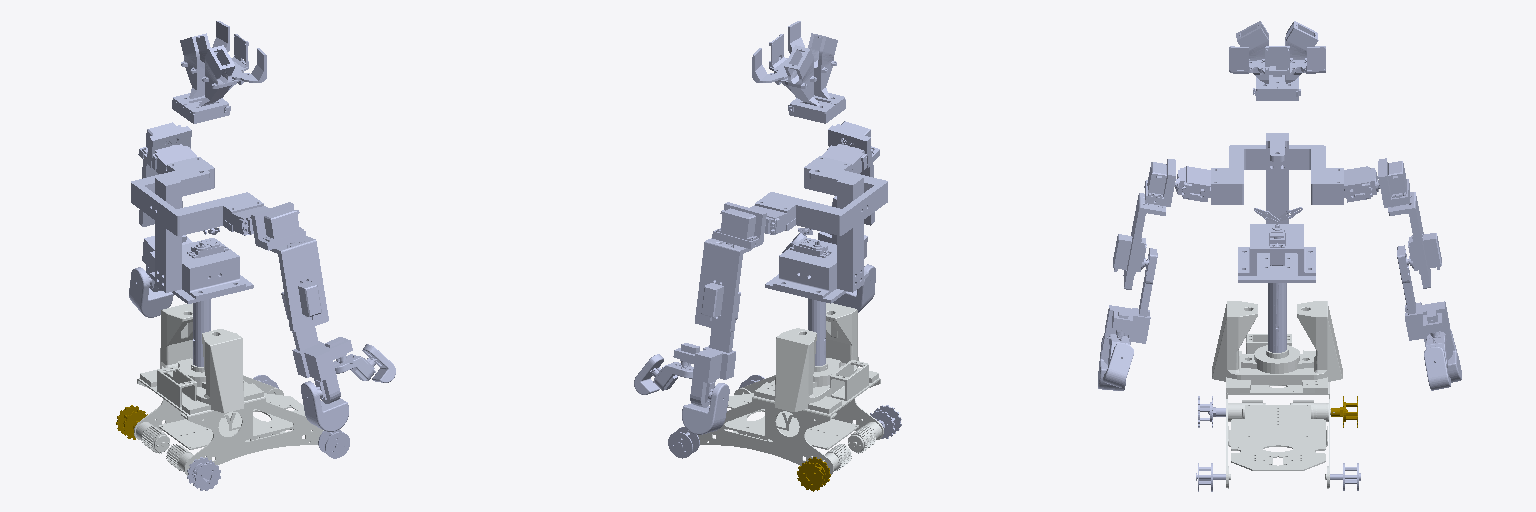
--- What the picture shows (computed from the rendered views, not written in the file) ---
Views: 3 orthographic renders of the robot side by side, from view 1: azimuth 30°, elevation 25°; view 2: azimuth 150°, elevation 25°; view 3: azimuth 270°, elevation 25°.
Model bearmaxV2 with 23 links and 22 joints (15 revolute, 2 continuous, 5 fixed), rooted at base_link, posed every joint at zero.
Visible links, largest first — view 1: base_link, neck_platform_link, head_platform_link, right_rotator_link, right_elbow_link, right_shoulder_link, right_paw_link, chassis_link, left_paw_link, left_shoulder_link, right_wheel_drive_link, right_wheel_caster_link (+4 smaller); view 2: base_link, neck_platform_link, head_platform_link, left_rotator_link, left_elbow_link, left_shoulder_link, left_paw_link, chassis_link, right_shoulder_link, left_wheel_drive_link, right_paw_link, left_wheel_caster_link (+3 smaller); view 3: base_link, neck_platform_link, head_platform_link, chassis_link, left_elbow_link, right_elbow_link, right_rotator_link, left_rotator_link, left_shoulder_link, right_shoulder_link, right_thumb_link, left_thumb_link.
Boxes of the visible links, left/top/right/bottom form: base_link: left=134, top=303, right=323, bottom=475; neck_platform_link: left=131, top=144, right=269, bottom=298; head_platform_link: left=172, top=21, right=266, bottom=123; right_rotator_link: left=270, top=236, right=328, bottom=331; right_elbow_link: left=281, top=292, right=352, bottom=403; right_shoulder_link: left=251, top=202, right=306, bottom=250; right_paw_link: left=301, top=381, right=348, bottom=431; chassis_link: left=150, top=272, right=253, bottom=366; left_paw_link: left=129, top=267, right=173, bottom=317; left_shoulder_link: left=138, top=122, right=191, bottom=167; right_wheel_drive_link: left=187, top=457, right=220, bottom=490; right_wheel_caster_link: left=318, top=429, right=349, bottom=458; base_link: left=698, top=303, right=883, bottom=474; neck_platform_link: left=750, top=144, right=887, bottom=297; head_platform_link: left=752, top=21, right=845, bottom=123; left_rotator_link: left=695, top=238, right=751, bottom=332; left_elbow_link: left=673, top=292, right=740, bottom=407; left_shoulder_link: left=712, top=202, right=766, bottom=248; left_paw_link: left=682, top=383, right=729, bottom=434; chassis_link: left=765, top=271, right=868, bottom=365; right_shoulder_link: left=828, top=121, right=879, bottom=167; left_wheel_drive_link: left=797, top=457, right=830, bottom=491; right_paw_link: left=833, top=264, right=875, bottom=312; left_wheel_caster_link: left=668, top=427, right=699, bottom=458; base_link: left=1212, top=301, right=1342, bottom=488; neck_platform_link: left=1175, top=133, right=1379, bottom=275; head_platform_link: left=1229, top=21, right=1325, bottom=100; chassis_link: left=1238, top=247, right=1315, bottom=352; left_elbow_link: left=1397, top=245, right=1452, bottom=359; right_elbow_link: left=1102, top=248, right=1157, bottom=364; right_rotator_link: left=1113, top=193, right=1165, bottom=289; left_rotator_link: left=1388, top=192, right=1441, bottom=288; left_shoulder_link: left=1378, top=158, right=1409, bottom=207; right_shoulder_link: left=1144, top=159, right=1175, bottom=206; right_thumb_link: left=1103, top=343, right=1133, bottom=387; left_thumb_link: left=1424, top=346, right=1450, bottom=390.
Size in the robot's own frame: 0.2459 by 0.4761 by 0.6075 metres.
Meshes: 23 distinct files referenced, 22 mesh visuals loaded (22 binary STL); not drawn: 1 (reference not matched to a file when rendering).

The robot description file, URDF, robot "bearmaxV2":
<?xml version="1.0" encoding="utf-8"?>
<!-- This URDF was automatically created by SolidWorks to URDF Exporter! Originally created by Stephen Brawner ([email redacted]) 
     Commit Version: 1.6.0-4-g7f85cfe  Build Version: 1.6.7995.38578
     For more information, please see http://wiki.ros.org/sw_urdf_exporter -->
<robot
  name="bearmaxV2">
  <link
    name="base_link">
    <inertial>
      <origin
        xyz="0.00586162456071543 -0.000185831833419414 0.0744001117554646"
        rpy="0 0 0" />
      <mass
        value="0.976780836916066" />
      <inertia
        ixx="0.00249083647921665"
        ixy="-4.40340033287534E-06"
        ixz="0.000118001479445594"
        iyy="0.00161625182152479"
        iyz="-2.5684104100142E-07"
        izz="0.00301636800775809" />
    </inertial>
    <visual>
      <origin
        xyz="0 0 0"
        rpy="0 0 0" />
      <geometry>
        <mesh
          filename="package://bearmax_description/meshes/base_link.STL" />
      </geometry>
      <material
        name="">
        <color
          rgba="0.898039215686275 0.917647058823529 0.929411764705882 1" />
      </material>
    </visual>
    <collision>
      <origin
        xyz="0 0 0"
        rpy="0 0 0" />
      <geometry>
        <mesh
          filename="package://bearmax_description/meshes/base_link.STL" />
      </geometry>
    </collision>
  </link>
  <link
    name="right_wheel_drive_link">
    <inertial>
      <origin
        xyz="-1.38693360296482E-07 -0.000198099491081072 0.0139468851825513"
        rpy="0 0 0" />
      <mass
        value="0.0207208973209134" />
      <inertia
        ixx="1.50319217791014E-06"
        ixy="-6.09220367635927E-10"
        ixz="1.01736492064527E-13"
        iyy="1.50791308225809E-06"
        iyz="-6.47462235441163E-13"
        izz="1.39681173741092E-06" />
    </inertial>
    <visual>
      <origin
        xyz="0 0 0"
        rpy="0 0 0" />
      <geometry>
        <mesh
          filename="package://bearmax_description/meshes/right_wheel_drive_link.STL" />
      </geometry>
      <material
        name="">
        <color
          rgba="0.792156862745098 0.819607843137255 0.933333333333333 1" />
      </material>
    </visual>
    <collision>
      <origin
        xyz="0 0 0"
        rpy="0 0 0" />
      <geometry>
        <mesh
          filename="package://bearmax_description/meshes/right_wheel_drive_link.STL" />
      </geometry>
    </collision>
  </link>
  <joint
    name="right_wheel_drive_joint"
    type="continuous">
    <origin
      xyz="-0.049487 -0.067539 -0.012187"
      rpy="1.5708 0 0" />
    <parent
      link="base_link" />
    <child
      link="right_wheel_drive_link" />
    <axis
      xyz="0 0 1" />
  </joint>
  <link
    name="right_wheel_caster_link">
    <inertial>
      <origin
        xyz="0 -1.11022302462516E-16 0.0274126270725132"
        rpy="0 0 0" />
      <mass
        value="0.00599559282611409" />
      <inertia
        ixx="9.01961510756187E-07"
        ixy="-1.95473660178741E-22"
        ixz="4.18266535670013E-22"
        iyy="9.01961510756187E-07"
        iyz="-3.03899159638205E-22"
        izz="8.58020065536495E-07" />
    </inertial>
    <visual>
      <origin
        xyz="0 0 0"
        rpy="0 0 0" />
      <geometry>
        <mesh
          filename="package://bearmax_description/meshes/right_wheel_caster_link.STL" />
      </geometry>
      <material
        name="">
        <color
          rgba="0.792156862745098 0.819607843137255 0.933333333333333 1" />
      </material>
    </visual>
    <collision>
      <origin
        xyz="0 0 0"
        rpy="0 0 0" />
      <geometry>
        <mesh
          filename="package://bearmax_description/meshes/right_wheel_caster_link.STL" />
      </geometry>
    </collision>
  </link>
  <joint
    name="right_wheel_caster_joint"
    type="fixed">
    <origin
      xyz="0.15096 -0.065039 -0.012467"
      rpy="1.5708 0 0" />
    <parent
      link="base_link" />
    <child
      link="right_wheel_caster_link" />
    <axis
      xyz="0 0 0" />
  </joint>
  <link
    name="left_wheel_drive_link">
    <inertial>
      <origin
        xyz="-4.04399003173239E-09 1.52340051684519E-09 -0.0220131148174488"
        rpy="0 0 0" />
      <mass
        value="0.0207208973209135" />
      <inertia
        ixx="1.50753295180584E-06"
        ixy="-1.42169258294887E-09"
        ixz="6.29562738041217E-13"
        iyy="1.50357230836238E-06"
        iyz="-1.82231785344126E-13"
        izz="1.39681173741092E-06" />
    </inertial>
    <visual>
      <origin
        xyz="0 0 0"
        rpy="0 0 0" />
      <geometry>
        <mesh
          filename="package://bearmax_description/meshes/left_wheel_drive_link.STL" />
      </geometry>
      <material
        name="">
        <color
          rgba="0.647058823529412 0.517647058823529 0 1" />
      </material>
    </visual>
    <collision>
      <origin
        xyz="0 0 0"
        rpy="0 0 0" />
      <geometry>
        <mesh
          filename="package://bearmax_description/meshes/left_wheel_drive_link.STL" />
      </geometry>
    </collision>
  </link>
  <joint
    name="left_wheel_drive_joint"
    type="continuous">
    <origin
      xyz="-0.049487 0.10541 -0.012467"
      rpy="-1.5708 0 0" />
    <parent
      link="base_link" />
    <child
      link="left_wheel_drive_link" />
    <axis
      xyz="0 0 1" />
  </joint>
  <link
    name="left_wheel_caster_link">
    <inertial>
      <origin
        xyz="-1.11022302462516E-16 1.11022302462516E-16 -0.0141573729274869"
        rpy="0 0 0" />
      <mass
        value="0.00599559282611411" />
      <inertia
        ixx="9.01961510756188E-07"
        ixy="1.32348898008484E-22"
        ixz="-1.4640564787551E-22"
        iyy="9.01961510756188E-07"
        iyz="-3.39826442528283E-22"
        izz="8.58020065536496E-07" />
    </inertial>
    <visual>
      <origin
        xyz="0 0 0"
        rpy="0 0 0" />
      <geometry>
        <mesh
          filename="package://bearmax_description/meshes/left_wheel_caster_link.STL" />
      </geometry>
      <material
        name="">
        <color
          rgba="0.792156862745098 0.819607843137255 0.933333333333333 1" />
      </material>
    </visual>
    <collision>
      <origin
        xyz="0 0 0"
        rpy="0 0 0" />
      <geometry>
        <mesh
          filename="package://bearmax_description/meshes/left_wheel_caster_link.STL" />
      </geometry>
    </collision>
  </link>
  <joint
    name="left_wheel_caster_joint"
    type="fixed">
    <origin
      xyz="0.15096 0.10852 -0.012467"
      rpy="-1.5708 -0.084596 0" />
    <parent
      link="base_link" />
    <child
      link="left_wheel_caster_link" />
    <axis
      xyz="0 0 0" />
  </joint>
  <link
    name="chassis_link">
    <inertial>
      <origin
        xyz="2.4421391020546E-09 3.56975005111337E-11 0.131399238783049"
        rpy="0 0 0" />
      <mass
        value="0.0816032882836278" />
      <inertia
        ixx="9.07997410153172E-05"
        ixy="-2.24870884032049E-10"
        ixz="-9.88775925003615E-12"
        iyy="9.14425226213427E-05"
        iyz="-1.69086472447409E-13"
        izz="9.16677155582235E-05" />
    </inertial>
    <visual>
      <origin
        xyz="0 0 0"
        rpy="0 0 0" />
      <geometry>
        <mesh
          filename="package://bearmax_description/meshes/chassis_link.STL" />
      </geometry>
      <material
        name="">
        <color
          rgba="0.792156862745098 0.819607843137255 0.933333333333333 1" />
      </material>
    </visual>
    <collision>
      <origin
        xyz="0 0 0"
        rpy="0 0 0" />
      <geometry>
        <mesh
          filename="package://bearmax_description/meshes/chassis_link.STL" />
      </geometry>
    </collision>
  </link>
  <joint
    name="chassis_joint"
    type="fixed">
    <origin
      xyz="0.0010131 -0.00011241 0.06899"
      rpy="0 0 0" />
    <parent
      link="base_link" />
    <child
      link="chassis_link" />
    <axis
      xyz="0 0 0" />
    <limit
      lower="0"
      upper="0"
      effort="0"
      velocity="0" />
  </joint>
  <link
    name="neck_platform_link">
    <inertial>
      <origin
        xyz="0.0639785291769795 0.0387672618963074 0.125754531516558"
        rpy="0 0 0" />
      <mass
        value="2.25967949465978" />
      <inertia
        ixx="0.00336303191779539"
        ixy="1.4622037536743E-07"
        ixz="-1.8593147975162E-05"
        iyy="0.00360507316848212"
        iyz="-1.76710531971803E-09"
        izz="0.00578624712619691" />
    </inertial>
    <visual>
      <origin
        xyz="0 0 0"
        rpy="0 0 0" />
      <geometry>
        <mesh
          filename="package://bearmax_description/meshes/neck_platform_link.STL" />
      </geometry>
      <material
        name="">
        <color
          rgba="0.792156862745098 0.819607843137255 0.933333333333333 1" />
      </material>
    </visual>
    <collision>
      <origin
        xyz="0 0 0"
        rpy="0 0 0" />
      <geometry>
        <mesh
          filename="package://bearmax_description/meshes/neck_platform_link.STL" />
      </geometry>
    </collision>
  </link>
  <joint
    name="neck_platform_joint"
    type="fixed">
    <origin
      xyz="0 0 0.1524"
      rpy="0 0 0" />
    <parent
      link="chassis_link" />
    <child
      link="neck_platform_link" />
    <axis
      xyz="0 0 0" />
  </joint>
  <link
    name="right_shoulder_link">
    <inertial>
      <origin
        xyz="0.00157311917387915 -0.00102623922384248 0.0185105761102544"
        rpy="0 0 0" />
      <mass
        value="0.0977776513919209" />
      <inertia
        ixx="1.8062409876156E-05"
        ixy="-5.54856654935029E-07"
        ixz="1.07885376783993E-07"
        iyy="2.44814438557124E-05"
        iyz="1.25924080923552E-06"
        izz="3.45222185665725E-05" />
    </inertial>
    <visual>
      <origin
        xyz="0 0 0"
        rpy="0 0 0" />
      <geometry>
        <mesh
          filename="package://bearmax_description/meshes/right_shoulder_link.STL" />
      </geometry>
      <material
        name="">
        <color
          rgba="0.792156862745098 0.819607843137255 0.933333333333333 1" />
      </material>
    </visual>
    <collision>
      <origin
        xyz="0 0 0"
        rpy="0 0 0" />
      <geometry>
        <mesh
          filename="package://bearmax_description/meshes/right_shoulder_link.STL" />
      </geometry>
    </collision>
  </link>
  <joint
    name="right_shoulder_joint"
    type="revolute">
    <origin
      xyz="0.030725 -0.13436 0.13322"
      rpy="1.3963 0 0" />
    <parent
      link="neck_platform_link" />
    <child
      link="right_shoulder_link" />
    <axis
      xyz="0 0 1" />
    <limit
      lower="0"
      upper="3.1416"
      effort="0"
      velocity="0" />
  </joint>
  <link
    name="right_rotator_link">
    <inertial>
      <origin
        xyz="-1.49713574870702E-13 0.0136423714924579 0.059352482340451"
        rpy="0 0 0" />
      <mass
        value="0.0956014967997645" />
      <inertia
        ixx="9.54909800762841E-05"
        ixy="-1.2806206426243E-16"
        ixz="6.69333905249821E-17"
        iyy="0.000107220126409649"
        iyz="-6.1202347296864E-06"
        izz="2.61808049838484E-05" />
    </inertial>
    <visual>
      <origin
        xyz="0 0 0"
        rpy="0 0 0" />
      <geometry>
        <mesh
          filename="package://bearmax_description/meshes/right_rotator_link.STL" />
      </geometry>
      <material
        name="">
        <color
          rgba="0.792156862745098 0.819607843137255 0.933333333333333 1" />
      </material>
    </visual>
    <collision>
      <origin
        xyz="0 0 0"
        rpy="0 0 0" />
      <geometry>
        <mesh
          filename="package://bearmax_description/meshes/right_rotator_link.STL" />
      </geometry>
    </collision>
  </link>
  <joint
    name="right_rotator_joint"
    type="revolute">
    <origin
      xyz="0.014365 -0.022483 0.023375"
      rpy="1.5708 0 0.071362" />
    <parent
      link="right_shoulder_link" />
    <child
      link="right_rotator_link" />
    <axis
      xyz="0.019291 0 0.99981" />
    <limit
      lower="-3.1416"
      upper="0"
      effort="0"
      velocity="0" />
  </joint>
  <link
    name="right_elbow_link">
    <inertial>
      <origin
        xyz="0.00324503327132414 0.0770011659176214 -0.00874369108948658"
        rpy="0 0 0" />
      <mass
        value="0.120408917606518" />
      <inertia
        ixx="8.26250918442277E-05"
        ixy="2.94373747003212E-06"
        ixz="8.62744306143528E-07"
        iyy="2.81244680177464E-05"
        iyz="2.55614230157999E-06"
        izz="8.5429392780165E-05" />
    </inertial>
    <visual>
      <origin
        xyz="0 0 0"
        rpy="0 0 0" />
      <geometry>
        <mesh
          filename="package://bearmax_description/meshes/right_elbow_link.STL" />
      </geometry>
      <material
        name="">
        <color
          rgba="0.792156862745098 0.819607843137255 0.933333333333333 1" />
      </material>
    </visual>
    <collision>
      <origin
        xyz="0 0 0"
        rpy="0 0 0" />
      <geometry>
        <mesh
          filename="package://bearmax_description/meshes/right_elbow_link.STL" />
      </geometry>
    </collision>
  </link>
  <joint
    name="right_elbow_joint"
    type="revolute">
    <origin
      xyz="0 -0.00565 0.087655"
      rpy="1.5708 0.088446 0" />
    <parent
      link="right_rotator_link" />
    <child
      link="right_elbow_link" />
    <axis
      xyz="0.091186 0.0063159 -0.99581" />
    <limit
      lower="0"
      upper="3.14"
      effort="0"
      velocity="0" />
  </joint>
  <link
    name="right_paw_link">
    <inertial>
      <origin
        xyz="0.00199502598775941 0.031790695350128 -0.0141991134128856"
        rpy="0 0 0" />
      <mass
        value="0.0623590994561229" />
      <inertia
        ixx="2.86801934608223E-05"
        ixy="-7.05660038813967E-07"
        ixz="4.63575311152624E-07"
        iyy="1.88752277294517E-05"
        iyz="6.46245163890654E-06"
        izz="2.23459135251987E-05" />
    </inertial>
    <visual>
      <origin
        xyz="0 0 0"
        rpy="0 0 0" />
      <geometry>
        <mesh
          filename="package://bearmax_description/meshes/right_paw_link.STL" />
      </geometry>
      <material
        name="">
        <color
          rgba="0.792156862745098 0.819607843137255 0.933333333333333 1" />
      </material>
    </visual>
    <collision>
      <origin
        xyz="0 0 0"
        rpy="0 0 0" />
      <geometry>
        <mesh
          filename="package://bearmax_description/meshes/right_paw_link.STL" />
      </geometry>
    </collision>
  </link>
  <joint
    name="right_paw_joint"
    type="revolute">
    <origin
      xyz="-0.024006 0.12036 -0.01965"
      rpy="0.3537 -1.5708 -0.32332" />
    <parent
      link="right_elbow_link" />
    <child
      link="right_paw_link" />
    <axis
      xyz="0.0063819 0.99998 -0.00043286" />
    <limit
      lower="0"
      upper="3.1416"
      effort="0"
      velocity="0" />
  </joint>
  <link
    name="right_grip_link">
    <inertial>
      <origin
        xyz="0.0171506042533505 -0.00116597650280736 0.0167781569677381"
        rpy="0 0 0" />
      <mass
        value="0.0230892815514852" />
      <inertia
        ixx="2.86685577094357E-06"
        ixy="1.84401354842356E-07"
        ixz="-1.51029225990118E-06"
        iyy="5.61907728073285E-06"
        iyz="1.04492168450739E-07"
        izz="4.84966909081883E-06" />
    </inertial>
    <visual>
      <origin
        xyz="0 0 0"
        rpy="0 0 0" />
      <geometry>
        <mesh
          filename="package://bearmax_description/meshes/right_grip_link.STL" />
      </geometry>
      <material
        name="">
        <color
          rgba="0.792156862745098 0.819607843137255 0.933333333333333 1" />
      </material>
    </visual>
    <collision>
      <origin
        xyz="0 0 0"
        rpy="0 0 0" />
      <geometry>
        <mesh
          filename="package://bearmax_description/meshes/right_grip_link.STL" />
      </geometry>
    </collision>
  </link>
  <joint
    name="right_grip_joint"
    type="revolute">
    <origin
      xyz="0.032425 0.09415 -0.019649"
      rpy="-1.5708 0 0" />
    <parent
      link="right_elbow_link" />
    <child
      link="right_grip_link" />
    <axis
      xyz="0.00043286 -0.0063819 0.99998" />
    <limit
      lower="-1.573"
      upper="0"
      effort="0"
      velocity="0" />
  </joint>
  <link
    name="right_thumb_link">
    <inertial>
      <origin
        xyz="1.3994978181664E-05 -0.0129507329189752 0.00241003452562583"
        rpy="0 0 0" />
      <mass
        value="0.0193380124608724" />
      <inertia
        ixx="5.48027598679071E-06"
        ixy="-9.23159945452149E-09"
        ixz="-5.4272585442269E-11"
        iyy="2.22369526884831E-06"
        iyz="-1.22325109812114E-06"
        izz="5.52602546326349E-06" />
    </inertial>
    <visual>
      <origin
        xyz="0 0 0"
        rpy="0 0 0" />
      <geometry>
        <mesh
          filename="package://bearmax_description/meshes/right_thumb_link.STL" />
      </geometry>
      <material
        name="">
        <color
          rgba="0.792156862745098 0.819607843137255 0.933333333333333 1" />
      </material>
    </visual>
    <collision>
      <origin
        xyz="0 0 0"
        rpy="0 0 0" />
      <geometry>
        <mesh
          filename="package://bearmax_description/meshes/right_thumb_link.STL" />
      </geometry>
    </collision>
  </link>
  <joint
    name="right_thumb_joint"
    type="revolute">
    <origin
      xyz="0.045203 -0.0031304 0.019197"
      rpy="-2.103 -0.17136 -1.5399" />
    <parent
      link="right_grip_link" />
    <child
      link="right_thumb_link" />
    <axis
      xyz="-0.17682 0.84823 0.49923" />
    <limit
      lower="0"
      upper="3.1416"
      effort="0"
      velocity="0" />
  </joint>
  <link
    name="left_shoulder_link">
    <inertial>
      <origin
        xyz="-0.000695202329607791 0.00113579364423999 0.0185105761102546"
        rpy="0 0 0" />
      <mass
        value="0.0977776513919208" />
      <inertia
        ixx="1.80161207116335E-05"
        ixy="-2.18529936958377E-07"
        ixz="-1.97397079199211E-07"
        iyy="2.45277330202348E-05"
        iyz="-1.24834332749112E-06"
        izz="3.45222185665724E-05" />
    </inertial>
    <visual>
      <origin
        xyz="0 0 0"
        rpy="0 0 0" />
      <geometry>
        <mesh
          filename="package://bearmax_description/meshes/left_shoulder_link.STL" />
      </geometry>
      <material
        name="">
        <color
          rgba="0.792156862745098 0.819607843137255 0.933333333333333 1" />
      </material>
    </visual>
    <collision>
      <origin
        xyz="0 0 0"
        rpy="0 0 0" />
      <geometry>
        <mesh
          filename="package://bearmax_description/meshes/left_shoulder_link.STL" />
      </geometry>
    </collision>
  </link>
  <joint
    name="left_shoulder_joint"
    type="revolute">
    <origin
      xyz="0.031675 0.13436 0.13322"
      rpy="-1.3962 -0.03338 -0.0058881" />
    <parent
      link="neck_platform_link" />
    <child
      link="left_shoulder_link" />
    <axis
      xyz="0 0 1" />
    <limit
      lower="-3.1416"
      upper="0"
      effort="0"
      velocity="0" />
  </joint>
  <link
    name="left_rotator_link">
    <inertial>
      <origin
        xyz="-2.77555756156289E-16 -0.0136423714924592 0.0593524823404505"
        rpy="0 0 0" />
      <mass
        value="0.0956014967997645" />
      <inertia
        ixx="9.54909800762845E-05"
        ixy="-2.75815103449682E-20"
        ixz="5.12984328680886E-20"
        iyy="0.000107220126409649"
        iyz="6.12023472968641E-06"
        izz="2.61808049838483E-05" />
    </inertial>
    <visual>
      <origin
        xyz="0 0 0"
        rpy="0 0 0" />
      <geometry>
        <mesh
          filename="package://bearmax_description/meshes/left_rotator_link.STL" />
      </geometry>
      <material
        name="">
        <color
          rgba="0.792156862745098 0.819607843137255 0.933333333333333 1" />
      </material>
    </visual>
    <collision>
      <origin
        xyz="0 0 0"
        rpy="0 0 0" />
      <geometry>
        <mesh
          filename="package://bearmax_description/meshes/left_rotator_link.STL" />
      </geometry>
    </collision>
  </link>
  <joint
    name="left_rotator_joint"
    type="revolute">
    <origin
      xyz="0.009425 0.02345 0.023375"
      rpy="-1.5708 0 0" />
    <parent
      link="left_shoulder_link" />
    <child
      link="left_rotator_link" />
    <axis
      xyz="-0.01456 0 -0.99989" />
    <limit
      lower="-3.1416"
      upper="0"
      effort="0"
      velocity="0" />
  </joint>
  <link
    name="left_elbow_link">
    <inertial>
      <origin
        xyz="-0.00489225637881363 0.0771488715380395 -0.00850612570583081"
        rpy="0 0 0" />
      <mass
        value="0.11711053788871" />
      <inertia
        ixx="8.07846600594066E-05"
        ixy="-8.42396453117017E-07"
        ixz="-1.52617879807391E-06"
        iyy="2.59213197769424E-05"
        iyz="2.82984069683788E-06"
        izz="8.20101580519862E-05" />
    </inertial>
    <visual>
      <origin
        xyz="0 0 0"
        rpy="0 0 0" />
      <geometry>
        <mesh
          filename="package://bearmax_description/meshes/left_elbow_link.STL" />
      </geometry>
      <material
        name="">
        <color
          rgba="0.792156862745098 0.819607843137255 0.933333333333333 1" />
      </material>
    </visual>
    <collision>
      <origin
        xyz="0 0 0"
        rpy="0 0 0" />
      <geometry>
        <mesh
          filename="package://bearmax_description/meshes/left_elbow_link.STL" />
      </geometry>
    </collision>
  </link>
  <joint
    name="left_elbow_joint"
    type="revolute">
    <origin
      xyz="0 0.00565 0.087655"
      rpy="1.5708 0 3.1416" />
    <parent
      link="left_rotator_link" />
    <child
      link="left_elbow_link" />
    <axis
      xyz="0.23772 0.0034616 0.97133" />
    <limit
      lower="0"
      upper="3.14"
      effort="0"
      velocity="0" />
  </joint>
  <link
    name="left_paw_link">
    <inertial>
      <origin
        xyz="5.37113512222298E-07 0.0278751467503926 -0.0093430096172743"
        rpy="0 0 0" />
      <mass
        value="0.062359099456123" />
      <inertia
        ixx="2.87307190339018E-05"
        ixy="1.32069716565286E-09"
        ixz="-6.71681846326391E-12"
        iyy="1.88247021564033E-05"
        iyz="6.4790572813011E-06"
        izz="2.23459135251674E-05" />
    </inertial>
    <visual>
      <origin
        xyz="0 0 0"
        rpy="0 0 0" />
      <geometry>
        <mesh
          filename="package://bearmax_description/meshes/left_paw_link.STL" />
      </geometry>
      <material
        name="">
        <color
          rgba="0.792156862745098 0.819607843137255 0.933333333333333 1" />
      </material>
    </visual>
    <collision>
      <origin
        xyz="0 0 0"
        rpy="0 0 0" />
      <geometry>
        <mesh
          filename="package://bearmax_description/meshes/left_paw_link.STL" />
      </geometry>
    </collision>
  </link>
  <joint
    name="left_paw_joint"
    type="revolute">
    <origin
      xyz="0.01515 0.12435 -0.01965"
      rpy="-1.5708 1.4992 -1.5708" />
    <parent
      link="left_elbow_link" />
    <child
      link="left_paw_link" />
    <axis
      xyz="0.09336 -0.99002 0.10553" />
    <limit
      lower="0"
      upper="3.1416"
      effort="0"
      velocity="0" />
  </joint>
  <link
    name="left_grip_link">
    <inertial>
      <origin
        xyz="0.0172048930085962 -3.38203918365254E-06 0.0161781569785363"
        rpy="0 0 0" />
      <mass
        value="0.0230892815150658" />
      <inertia
        ixx="2.83651611918586E-06"
        ixy="3.05226767308167E-09"
        ixz="-1.51397080751235E-06"
        iyy="5.64941692547557E-06"
        iyz="1.56593952648531E-11"
        izz="4.84966908526827E-06" />
    </inertial>
    <visual>
      <origin
        xyz="0 0 0"
        rpy="0 0 0" />
      <geometry>
        <mesh
          filename="package://bearmax_description/meshes/left_grip_link.STL" />
      </geometry>
      <material
        name="">
        <color
          rgba="0.792156862745098 0.819607843137255 0.933333333333333 1" />
      </material>
    </visual>
    <collision>
      <origin
        xyz="0 0 0"
        rpy="0 0 0" />
      <geometry>
        <mesh
          filename="package://bearmax_description/meshes/left_grip_link.STL" />
      </geometry>
    </collision>
  </link>
  <joint
    name="left_grip_joint"
    type="revolute">
    <origin
      xyz="-0.036425 0.09475 -0.01965"
      rpy="1.5708 -0.044935 3.1416" />
    <parent
      link="left_elbow_link" />
    <child
      link="left_grip_link" />
    <axis
      xyz="0.10642 0.017521 0.99417" />
    <limit
      lower="0"
      upper="1.573"
      effort="0"
      velocity="0" />
  </joint>
  <link
    name="left_thumb_link">
    <inertial>
      <origin
        xyz="-0.00222789146124205 0.0127538277490598 0.00181003452347672"
        rpy="0 0 0" />
      <mass
        value="0.0193380124544118" />
      <inertia
        ixx="5.38864189479947E-06"
        ixy="5.54582580706863E-07"
        ixz="-2.10571741237702E-07"
        iyy="2.31532935589627E-06"
        iyz="1.20500565888226E-06"
        izz="5.52602546120659E-06" />
    </inertial>
    <visual>
      <origin
        xyz="0 0 0"
        rpy="0 0 0" />
      <geometry>
        <mesh
          filename="package://bearmax_description/meshes/left_thumb_link.STL" />
      </geometry>
      <material
        name="">
        <color
          rgba="0.792156862745098 0.819607843137255 0.933333333333333 1" />
      </material>
    </visual>
    <collision>
      <origin
        xyz="0 0 0"
        rpy="0 0 0" />
      <geometry>
        <mesh
          filename="package://bearmax_description/meshes/left_thumb_link.STL" />
      </geometry>
    </collision>
  </link>
  <joint
    name="left_thumb_joint"
    type="revolute">
    <origin
      xyz="0.045831 0 0.018297"
      rpy="2.0979 0.10961 1.6344" />
    <parent
      link="left_grip_link" />
    <child
      link="left_thumb_link" />
    <axis
      xyz="-0.098094 0.90907 -0.40492" />
    <limit
      lower="0"
      upper="3.1416"
      effort="0"
      velocity="0" />
  </joint>
  <link
    name="neck_yaw_link">
    <inertial>
      <origin
        xyz="-0.0104776366871882 -0.0011526599966909 0.0551304948745799"
        rpy="0 0 0" />
      <mass
        value="0.0990489989948753" />
      <inertia
        ixx="3.64553244713511E-05"
        ixy="-4.18900567175326E-07"
        ixz="4.26549978448425E-07"
        iyy="4.01286312507256E-05"
        iyz="4.72911306807467E-08"
        izz="1.48361833910782E-05" />
    </inertial>
    <visual>
      <origin
        xyz="0 0 0"
        rpy="0 0 0" />
      <geometry>
        <mesh
          filename="package://bearmax_description/meshes/neck_yaw_link.STL" />
      </geometry>
      <material
        name="">
        <color
          rgba="0.627450980392157 0.627450980392157 0.627450980392157 1" />
      </material>
    </visual>
    <collision>
      <origin
        xyz="0 0 0"
        rpy="0 0 0" />
      <geometry>
        <mesh
          filename="package://bearmax_description/meshes/neck_yaw_link.STL" />
      </geometry>
    </collision>
  </link>
  <joint
    name="neck_yaw_joint"
    type="revolute">
    <origin
      xyz="-0.0010131 0.00011241 0.0554"
      rpy="0 0 -0.0026869" />
    <parent
      link="neck_platform_link" />
    <child
      link="neck_yaw_link" />
    <axis
      xyz="0 0 1" />
    <limit
      lower="0"
      upper="3.1416"
      effort="0"
      velocity="0" />
  </joint>
  <link
    name="head_platform_link">
    <inertial>
      <origin
        xyz="0.011178 0.00095815 0.052453"
        rpy="0 0 0" />
      <mass
        value="0.5204" />
      <inertia
        ixx="0.0016924"
        ixy="5.7736E-08"
        ixz="-7.1736E-06"
        iyy="0.00067436"
        iyz="-1.0425E-07"
        izz="0.0013173" />
    </inertial>
    <visual>
      <origin
        xyz="0 0 0"
        rpy="0 0 0" />
      <geometry>
        <mesh
          filename="package://bearmax_description/meshes/head_platform_link.STL" />
      </geometry>
      <material
        name="">
        <color
          rgba="0.79216 0.81961 0.93333 1" />
      </material>
    </visual>
    <collision>
      <origin
        xyz="0 0 0"
        rpy="0 0 0" />
      <geometry>
        <mesh
          filename="package://bearmax_description/meshes/head_platform_link.STL" />
      </geometry>
    </collision>
  </link>
  <joint
    name="head_platform_joint"
    type="fixed">
    <origin
      xyz="-1.5592E-05 -2.8815E-05 0.20898"
      rpy="0 0 0.013445" />
    <parent
      link="neck_yaw_link" />
    <child
      link="head_platform_link" />
    <axis
      xyz="0 0 0" />
  </joint>
  <link
    name="right_neck_link">
    <inertial>
      <origin
        xyz="-0.0228790024938471 -0.00201950969434828 0.000880471937039384"
        rpy="0 0 0" />
      <mass
        value="0.000637196311078084" />
      <inertia
        ixx="3.70574710581662E-08"
        ixy="-1.70134989727839E-08"
        ixz="-1.10925998940079E-11"
        iyy="1.39323149365002E-08"
        iyz="3.2317819096499E-11"
        izz="4.87284844278571E-08" />
    </inertial>
    <visual>
      <origin
        xyz="0 0 0"
        rpy="0 0 0" />
      <geometry>
        <mesh
          filename="package://bearmax_description/meshes/right_neck_link.STL" />
      </geometry>
      <material
        name="">
        <color
          rgba="0.792156862745098 0.819607843137255 0.933333333333333 1" />
      </material>
    </visual>
    <collision>
      <origin
        xyz="0 0 0"
        rpy="0 0 0" />
      <geometry>
        <mesh
          filename="package://bearmax_description/meshes/right_neck_link.STL" />
      </geometry>
    </collision>
  </link>
  <joint
    name="right_neck_joint"
    type="revolute">
    <origin
      xyz="0.01232 -0.014005 -0.18598"
      rpy="0.096166 1.5708 0" />
    <parent
      link="head_platform_link" />
    <child
      link="right_neck_link" />
    <axis
      xyz="0 0 1" />
    <limit
      lower="0"
      upper="3.1416"
      effort="0"
      velocity="0" />
  </joint>
  <link
    name="left_neck_link">
    <inertial>
      <origin
        xyz="-0.0228790032355981 0.00141776079648542 0.00157827686591278"
        rpy="0 0 0" />
      <mass
        value="0.000637196311078083" />
      <inertia
        ixx="3.61894222185954E-08"
        ixy="1.75829113757352E-08"
        ixz="-1.10925998939462E-11"
        iyy="1.48003637760711E-08"
        iyz="3.23178190965023E-11"
        izz="4.87284844278571E-08" />
    </inertial>
    <visual>
      <origin
        xyz="0 0 0"
        rpy="0 0 0" />
      <geometry>
        <mesh
          filename="package://bearmax_description/meshes/left_neck_link.STL" />
      </geometry>
      <material
        name="">
        <color
          rgba="0.792156862745098 0.819607843137255 0.933333333333333 1" />
      </material>
    </visual>
    <collision>
      <origin
        xyz="0 0 0"
        rpy="0 0 0" />
      <geometry>
        <mesh
          filename="package://bearmax_description/meshes/left_neck_link.STL" />
      </geometry>
    </collision>
  </link>
  <joint
    name="left_neck_joint"
    type="revolute">
    <origin
      xyz="0.0094109 0.016155 -0.18598"
      rpy="0.096166 1.5708 0" />
    <parent
      link="head_platform_link" />
    <child
      link="left_neck_link" />
    <axis
      xyz="0 0 1" />
    <limit
      lower="0"
      upper="3.1416"
      effort="0"
      velocity="0" />
  </joint>
</robot>
